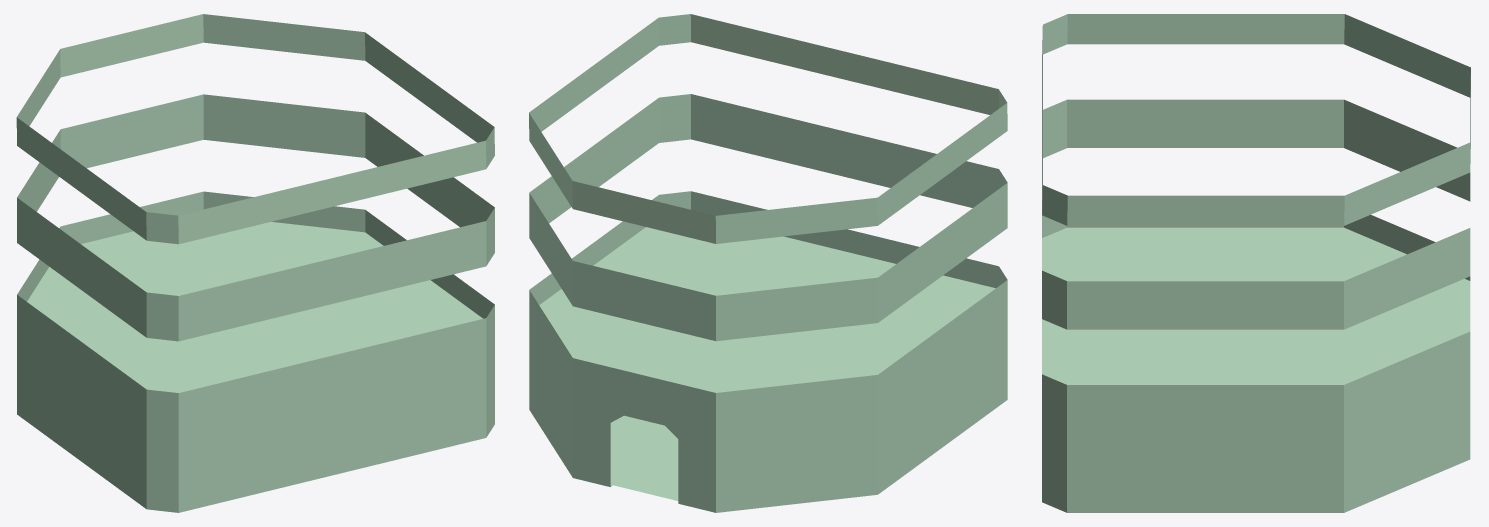
The model's file is Bld_R_med_L5_B.fbx.
3 renders of one model, left to right at view 1: azimuth 30°, elevation 25°; view 2: azimuth 150°, elevation 25°; view 3: azimuth 270°, elevation 25°, orthographic. The views are drawn at different scales.
Parts seen in each view (by area): view 1: Bld_R_med_L5_B_LOD0; view 2: Bld_R_med_L5_B_LOD0; view 3: Bld_R_med_L5_B_LOD0.
Part boxes in pixels (box(x1,y1,x2,y2)): Bld_R_med_L5_B_LOD0: box(16, 14, 494, 512); Bld_R_med_L5_B_LOD0: box(529, 14, 1007, 512); Bld_R_med_L5_B_LOD0: box(1042, 14, 1470, 512).
Size of what is drawn, in the model's own units: 2200 by 2078 by 2200.
Materials: 1 (1 with a texture image).
